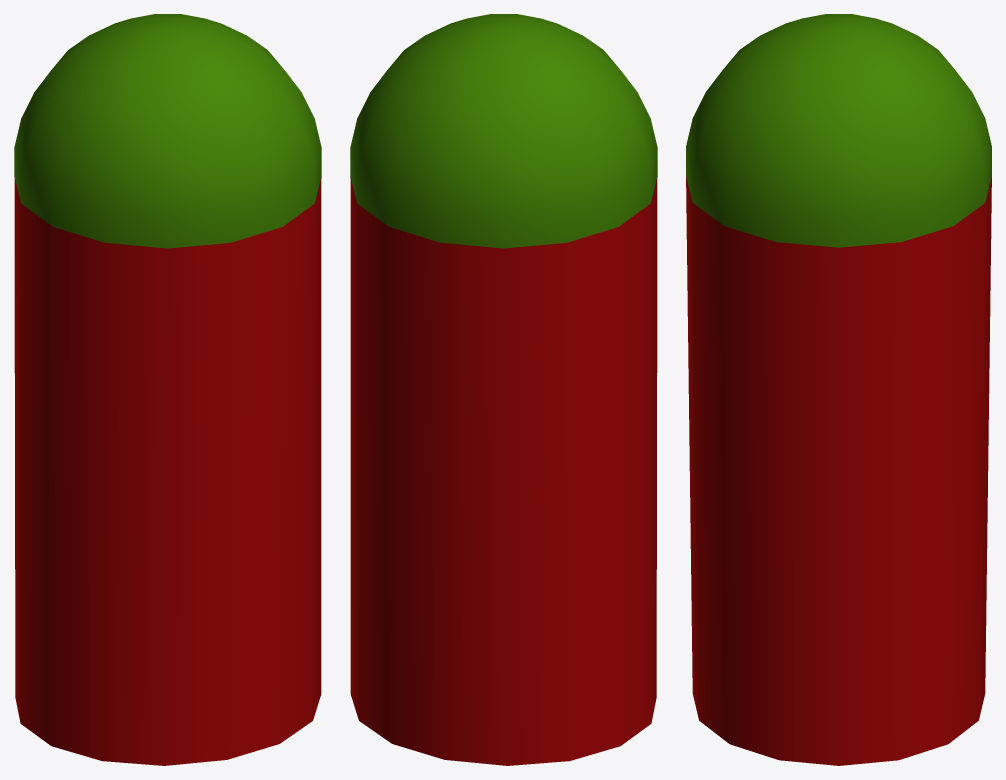
File: Obstacle 1.fbx
3 views of the same model, side by side, from view 1: azimuth 30°, elevation 25°; view 2: azimuth 150°, elevation 25°; view 3: azimuth 270°, elevation 25° (orthographic).
Parts seen in each view (by area): view 1: Obstacle_1; view 2: Obstacle_1; view 3: Obstacle_1.
Boxes of the visible parts, x1,y1,x2,y2 form: Obstacle_1: (14,14,321,765); Obstacle_1: (350,14,657,765); Obstacle_1: (686,14,991,765).
Bounding box in the file's own units: 12.96 × 31.3 × 12.91.
